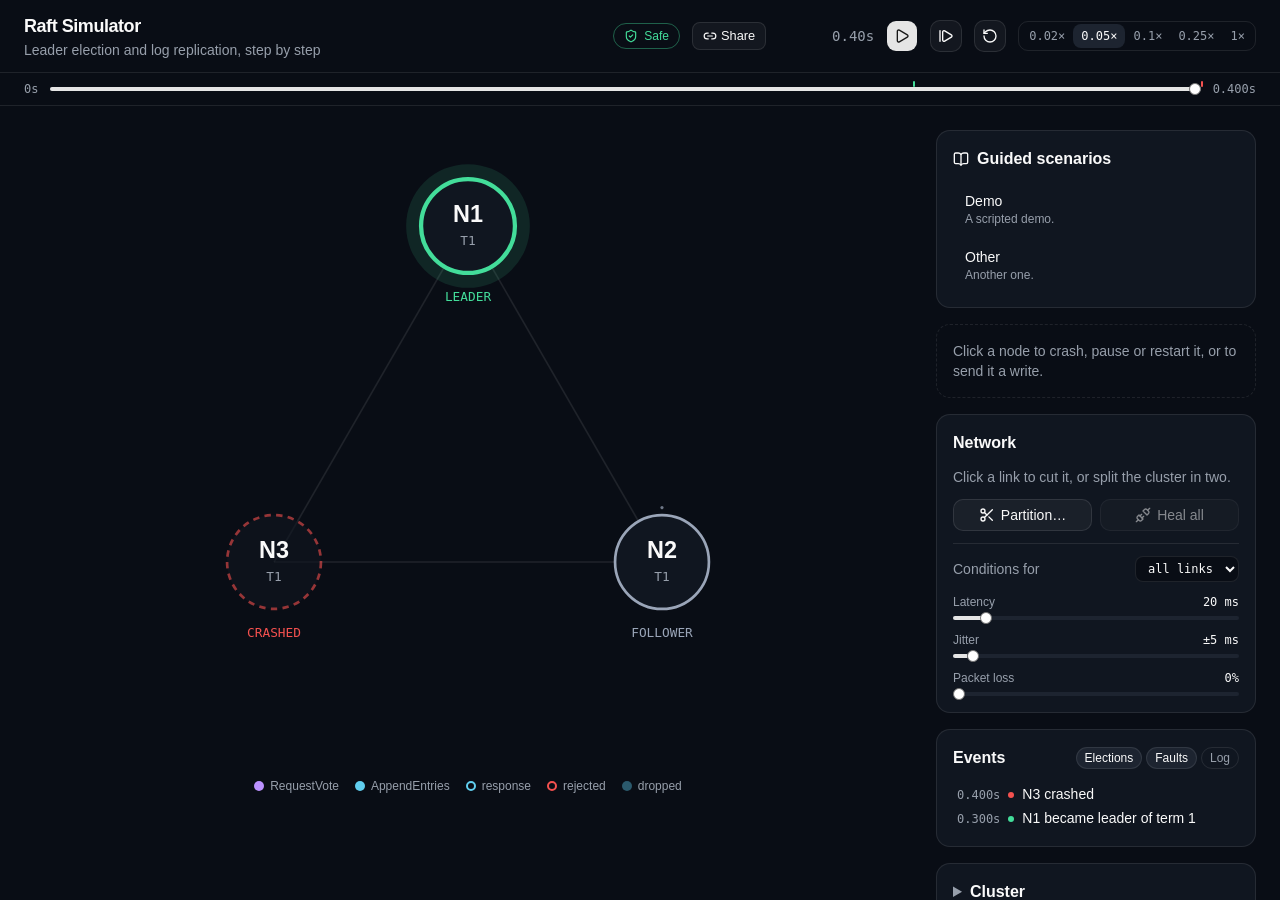
it: filters hide categories of events
Step 1. Click the button "Faults" → {"x": 1172, "y": 758}, box [1146, 747, 1197, 769]
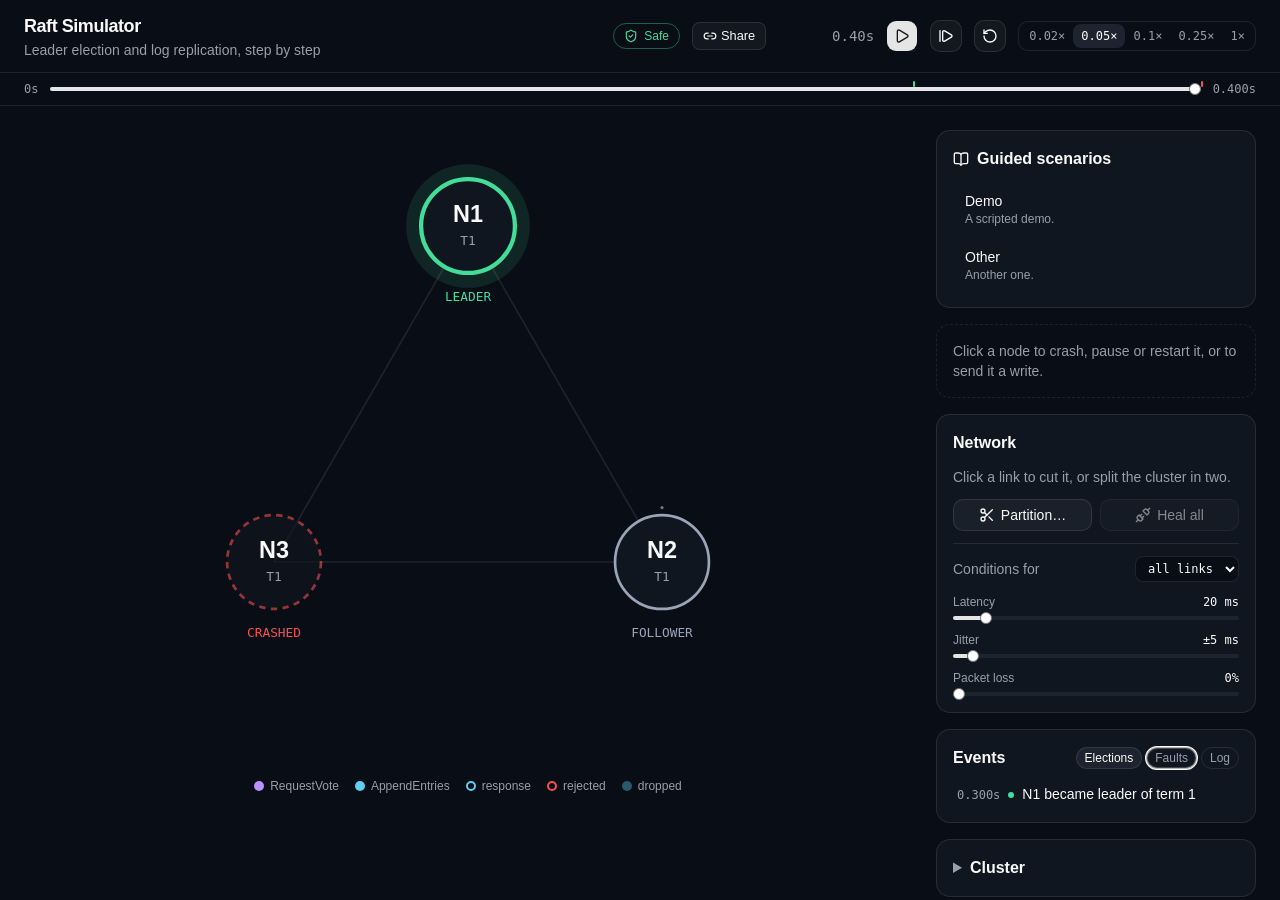
Step 2. Click the button "Elections" → {"x": 1109, "y": 758}, box [1076, 747, 1142, 769]
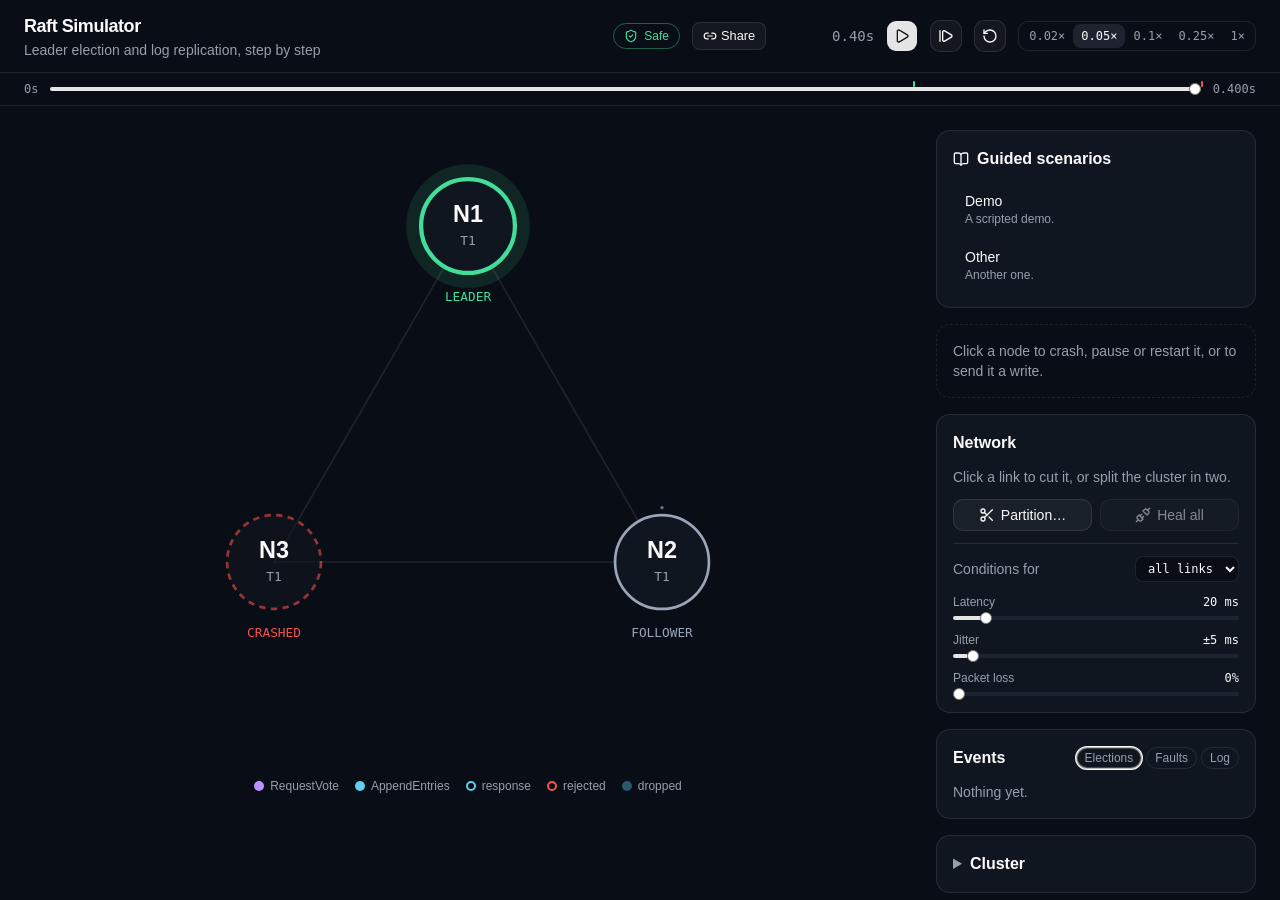
Result: the list item "Nothing yet." is shown at [953, 784, 1028, 800]
